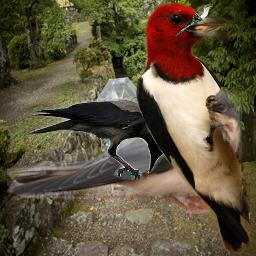Crow: (27, 98, 168, 180)
Cuckoo: (175, 4, 214, 37)
Swallow: (7, 86, 242, 214)
Woodpecker: (135, 2, 250, 253)
